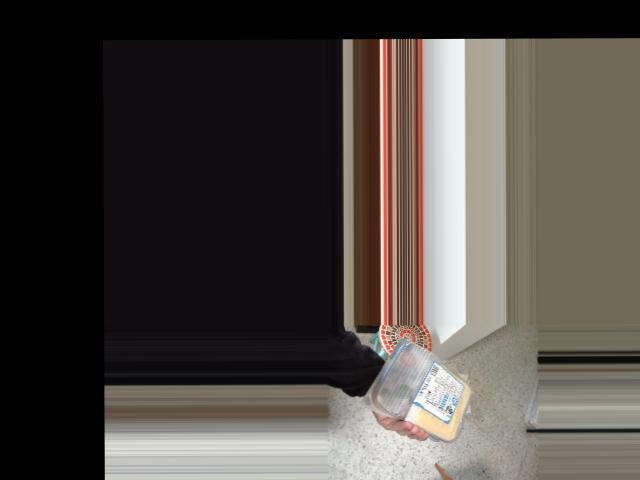cheese: (377, 340, 476, 429)
